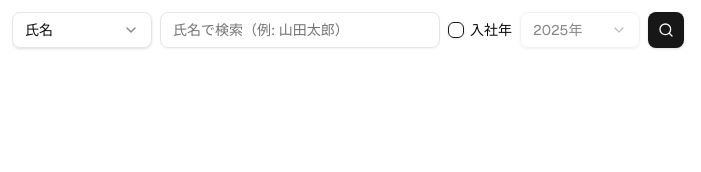
Scenario: SearchBar Component › Hire Year Filter › should enable hire year dropdown when checkbox is checked
This screenshot has width=701, height=172.
Click the checkbox at (456, 30), box left=448, top=22, right=464, bottom=38
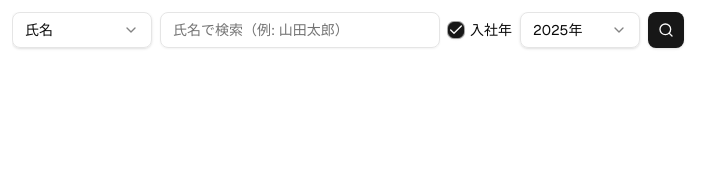
expect the dropdown labelled "2025年" is enabled: met, box left=520, top=12, right=640, bottom=48
